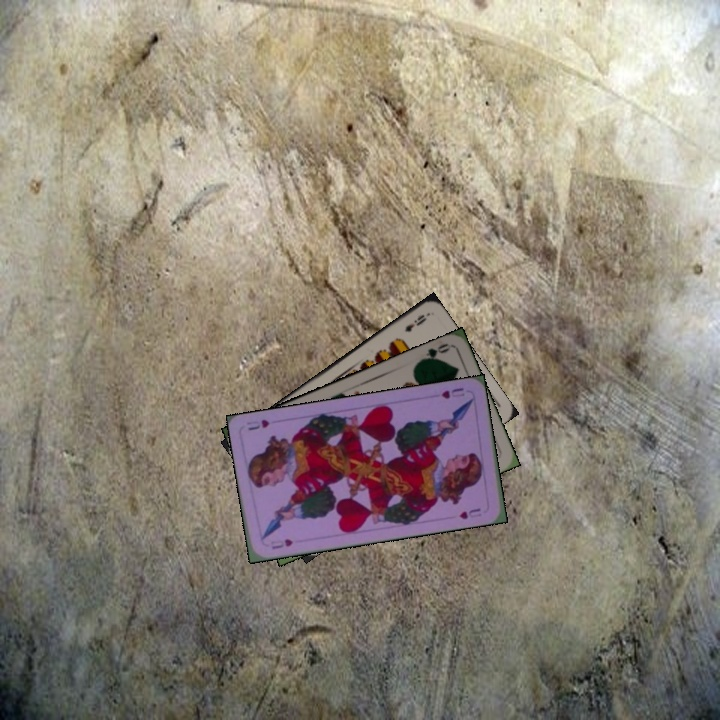E9: (400, 310, 429, 335)
GO: (415, 339, 453, 365)
HU: (437, 384, 467, 401), (268, 535, 295, 552)
